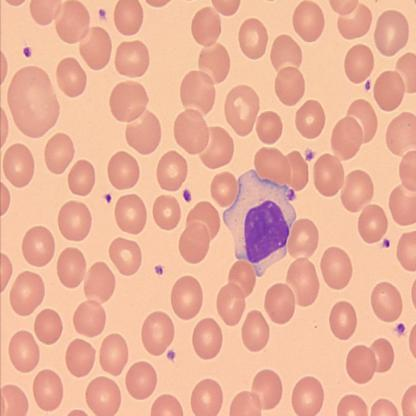Atypical lymphocyte: (222, 168, 299, 282)
